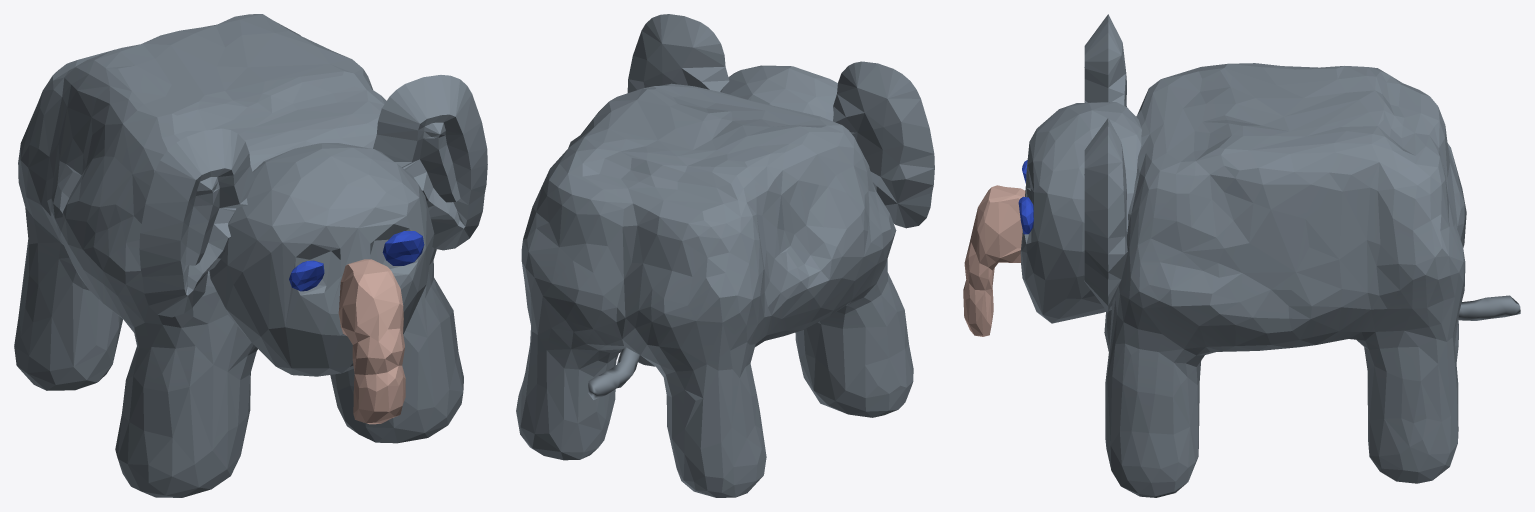
The model's file is epiphant_default_preview.obj.
The picture shows the model from 3 angles, left to right: view 1: azimuth 30°, elevation 25°; view 2: azimuth 150°, elevation 25°; view 3: azimuth 270°, elevation 25°; orthographic projection. The views are drawn at different scales.
Parts seen in each view (by area): view 1: body__epiphant, head__meerkat, ear_right__epiphant, ear_left__epiphant, nose__trunkish, eye_left__standard, eye_right__standard; view 2: body__epiphant, ear_right__epiphant, ear_left__epiphant, head__meerkat, tail__cat_tail; view 3: body__epiphant, head__meerkat, ear_left__epiphant, nose__trunkish, ear_right__epiphant, tail__cat_tail.
Boxes of the visible parts, x1,y1,x2,y2 form: body__epiphant: (14,14,463,497); head__meerkat: (209,143,434,376); ear_right__epiphant: (139,128,254,317); ear_left__epiphant: (373,75,487,250); nose__trunkish: (338,259,405,424); eye_left__standard: (382,231,424,265); eye_right__standard: (289,260,324,291); body__epiphant: (516,83,913,497); ear_right__epiphant: (833,61,934,228); ear_left__epiphant: (627,14,729,92); head__meerkat: (720,65,876,191); tail__cat_tail: (588,347,639,399); body__epiphant: (1104,63,1466,497); head__meerkat: (1020,102,1141,323); ear_left__epiphant: (1084,118,1127,312); nose__trunkish: (963,185,1025,336); ear_right__epiphant: (1084,14,1126,106); tail__cat_tail: (1458,295,1520,320).
Bounding box in the file's own units: 2.14 × 2.21 × 3.08.
Materials: 8 (8 with a texture image).
